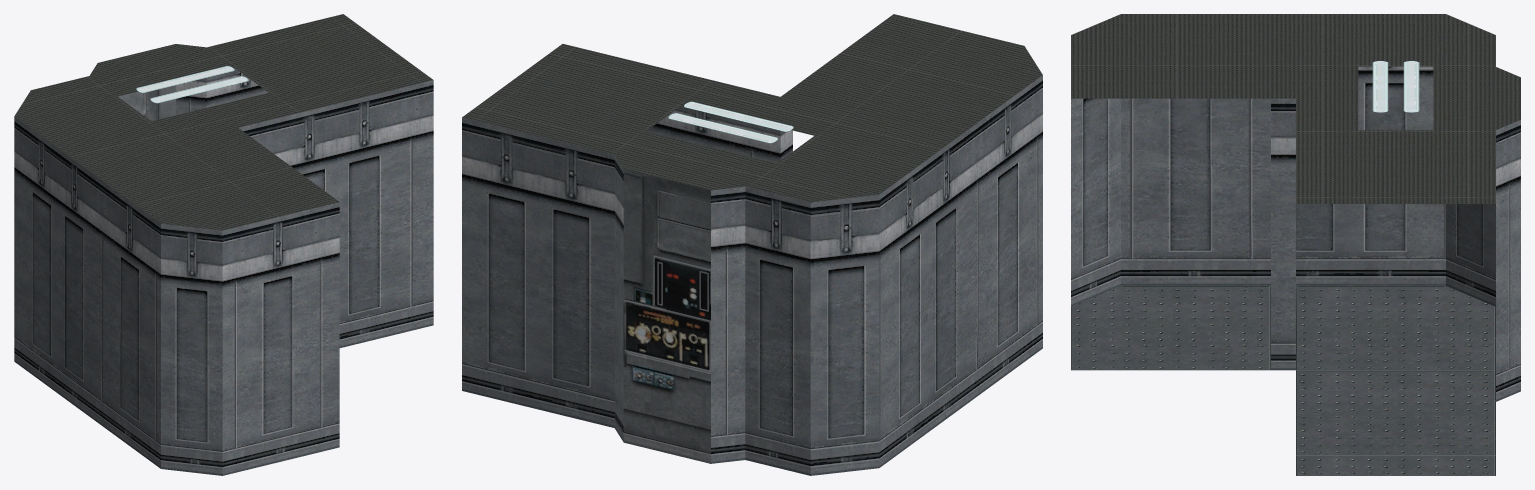
File: mun_all_military_storage_shed_impl_s01_r2_foyer_mesh_foyer.fbx
3 views of the same model, side by side, from view 1: azimuth 30°, elevation 25°; view 2: azimuth 150°, elevation 25°; view 3: azimuth 270°, elevation 25° (orthographic). The views are drawn at different scales.
Parts seen in each view (by area): view 1: mesh_node; view 2: mesh_node; view 3: mesh_node.
Boxes of the visible parts, <box> form: mesh_node: <box>14,14,433,475</box>; mesh_node: <box>462,14,1042,475</box>; mesh_node: <box>1071,14,1520,475</box>.
Size of the model in its own units: 4.5 by 3.13 by 4.5.
